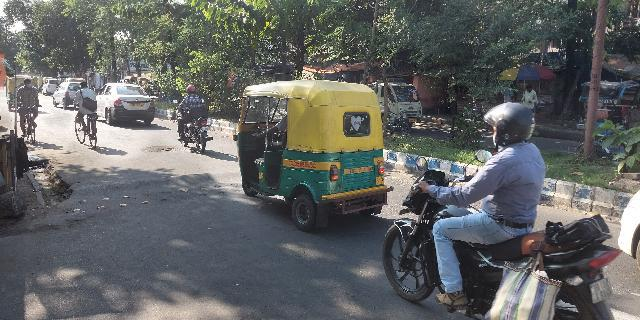Autorickshaw: (233, 79, 391, 235)
Car: (97, 81, 158, 130)
Cycle: (70, 77, 104, 153), (15, 71, 43, 149)
Motorbike: (378, 98, 618, 318)
